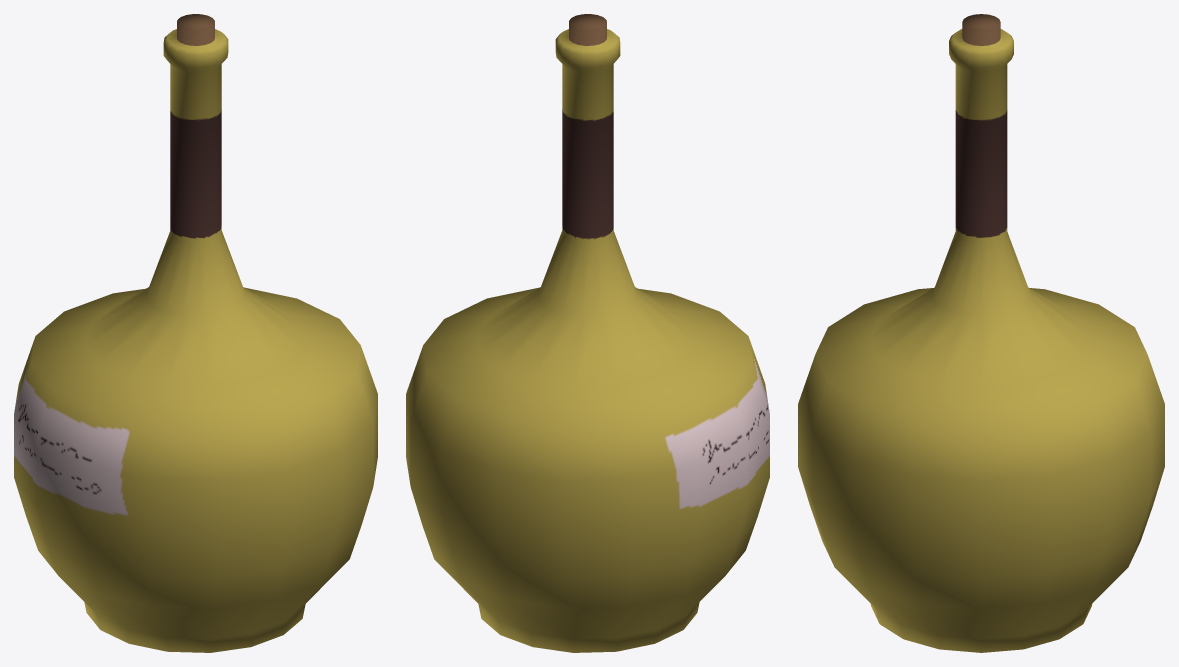
File: Flask 2.fbx
3 renders of one model, left to right at view 1: azimuth 30°, elevation 25°; view 2: azimuth 150°, elevation 25°; view 3: azimuth 270°, elevation 25°, orthographic.
Visible parts, largest first — view 1: Flask 2 - Yellow; view 2: Flask 2 - Yellow; view 3: Flask 2 - Yellow.
Boxes of the visible parts, x1=… form: Flask 2 - Yellow: x1=14, y1=14, x2=377, y2=652; Flask 2 - Yellow: x1=406, y1=14, x2=769, y2=652; Flask 2 - Yellow: x1=798, y1=14, x2=1164, y2=652.
Size of the model in its own units: 0.312 by 0.5483 by 0.312.
